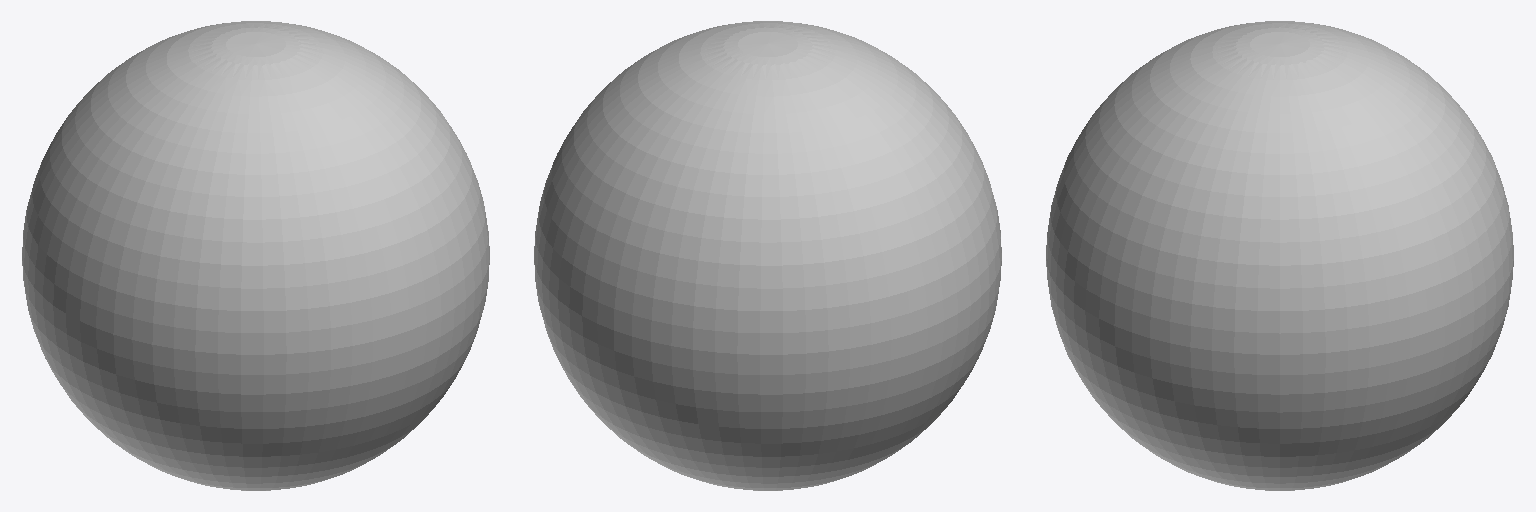
The model's file is earth.obj.
The picture shows the model from 3 angles: view 1: azimuth 30°, elevation 25°; view 2: azimuth 150°, elevation 25°; view 3: azimuth 270°, elevation 25°; orthographic projection.
Visible parts, largest first — view 1: Sphere_Sphere.004; view 2: Sphere_Sphere.004; view 3: Sphere_Sphere.004.
Boxes of the visible parts, x1=… form: Sphere_Sphere.004: x1=22, y1=21, x2=489, y2=490; Sphere_Sphere.004: x1=534, y1=21, x2=1001, y2=490; Sphere_Sphere.004: x1=1046, y1=21, x2=1513, y2=490.
Size of the model in its own units: 12.6 by 12.61 by 12.6.